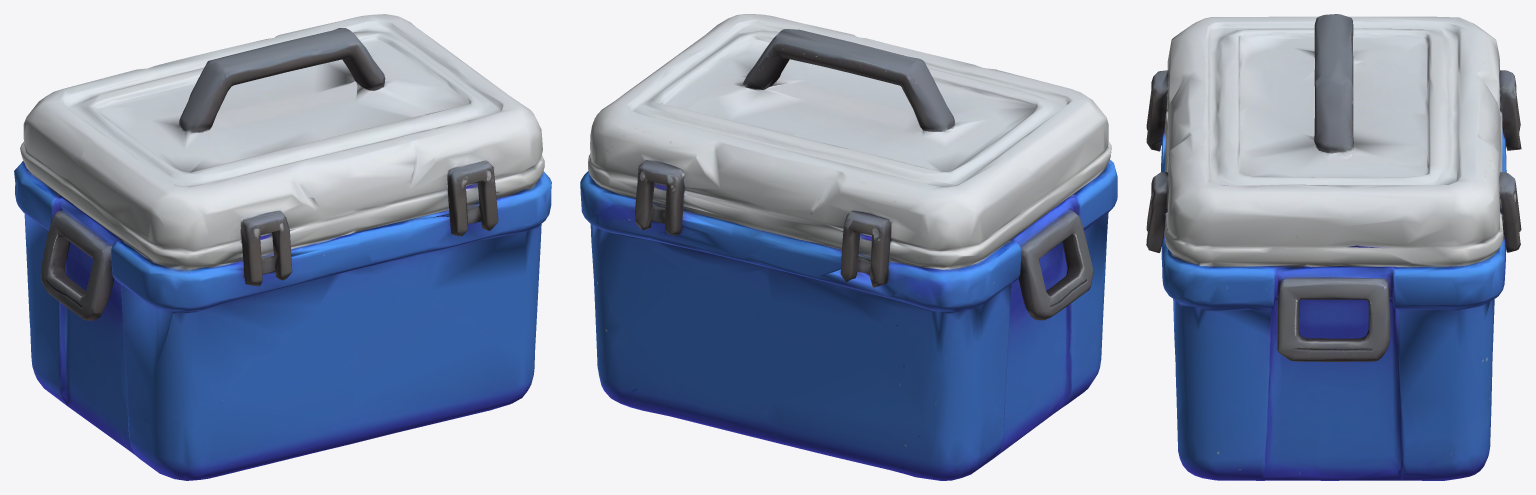
Rendered from prop-cooler.glb.
3 views of the same model, side by side, from view 1: azimuth 30°, elevation 25°; view 2: azimuth 150°, elevation 25°; view 3: azimuth 270°, elevation 25° (orthographic).
Visible parts, largest first — view 1: tripo_node_83f8e3fd-f03b-4994-97b0-8e8f74a349d6; view 2: tripo_node_83f8e3fd-f03b-4994-97b0-8e8f74a349d6; view 3: tripo_node_83f8e3fd-f03b-4994-97b0-8e8f74a349d6.
Boxes of the visible parts, <box> form: tripo_node_83f8e3fd-f03b-4994-97b0-8e8f74a349d6: <box>14,14,551,480</box>; tripo_node_83f8e3fd-f03b-4994-97b0-8e8f74a349d6: <box>580,14,1117,480</box>; tripo_node_83f8e3fd-f03b-4994-97b0-8e8f74a349d6: <box>1146,14,1521,480</box>.
Bounding box in the file's own units: 1 × 0.7494 × 0.7295.
1 material, 1 textured.
